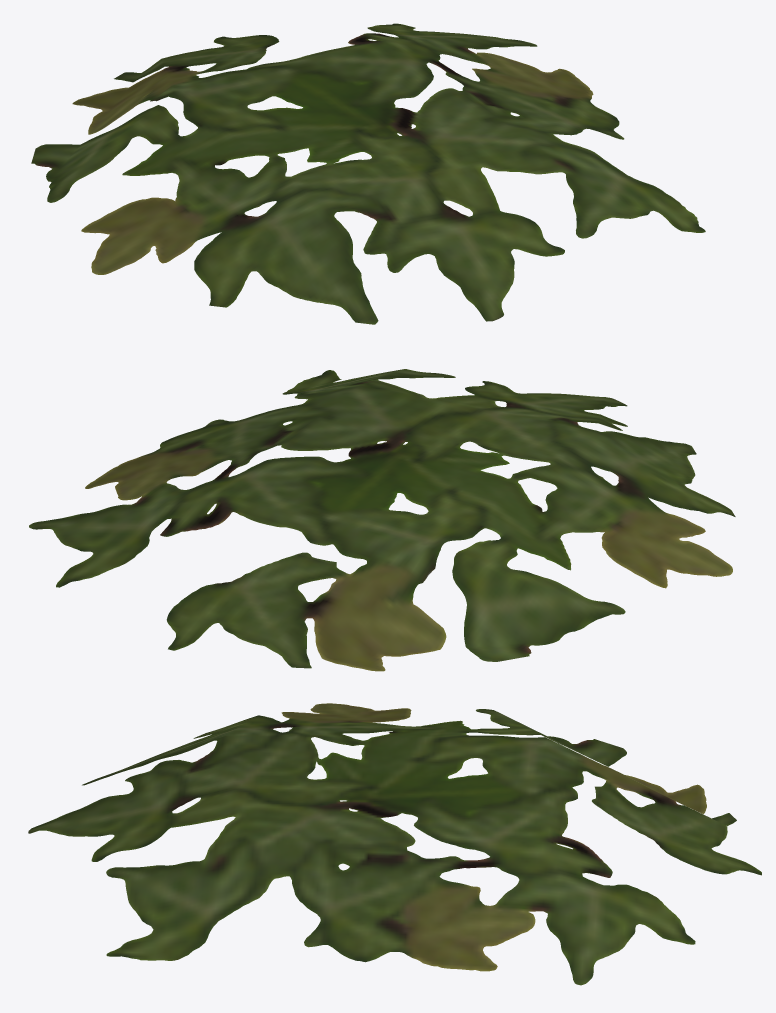
File: fanasty_mod_sprig_ivy02.fbx
The picture shows the model from 3 angles, top to bottom: view 1: azimuth 30°, elevation 25°; view 2: azimuth 150°, elevation 25°; view 3: azimuth 270°, elevation 25°; orthographic projection. The views are drawn at different scales.
Parts seen in each view (by area): view 1: sprig_ivy_02; view 2: sprig_ivy_02; view 3: sprig_ivy_02.
Boxes of the visible parts, x1=… form: sprig_ivy_02: x1=31, y1=23, x2=705, y2=324; sprig_ivy_02: x1=29, y1=369, x2=735, y2=671; sprig_ivy_02: x1=28, y1=703, x2=761, y2=985.
Bounding box in the file's own units: 1.59 × 0.1512 × 1.7.
